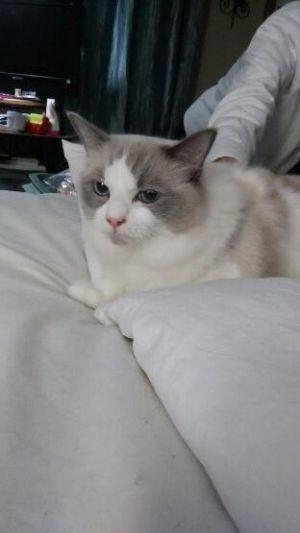ragdoll: (60, 99, 216, 260)
